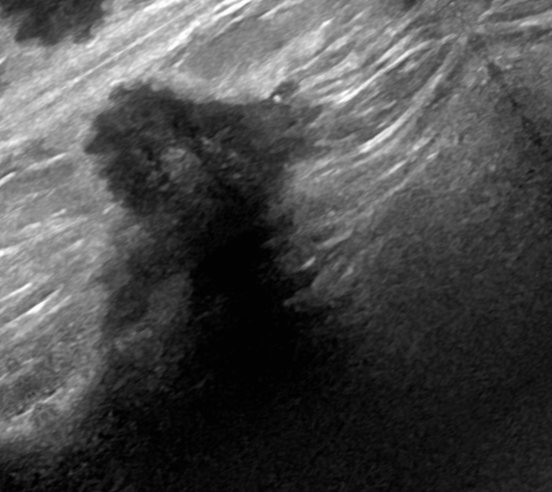Malignant: (96, 84, 290, 226)
